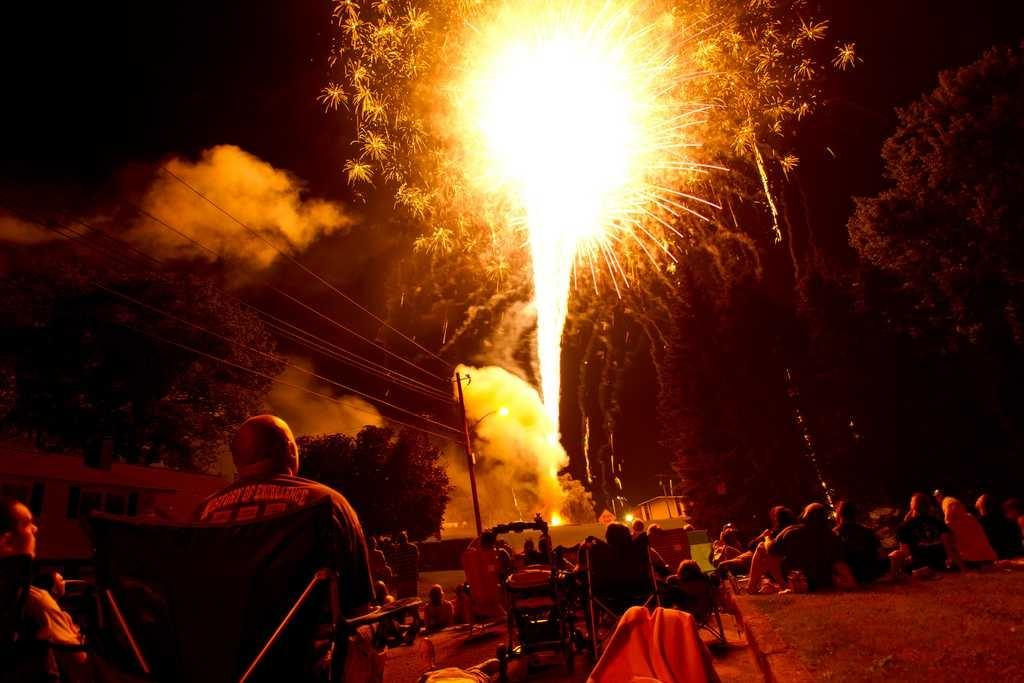fire: (465, 10, 670, 230), (537, 250, 582, 400)
smoke: (145, 167, 287, 243)
